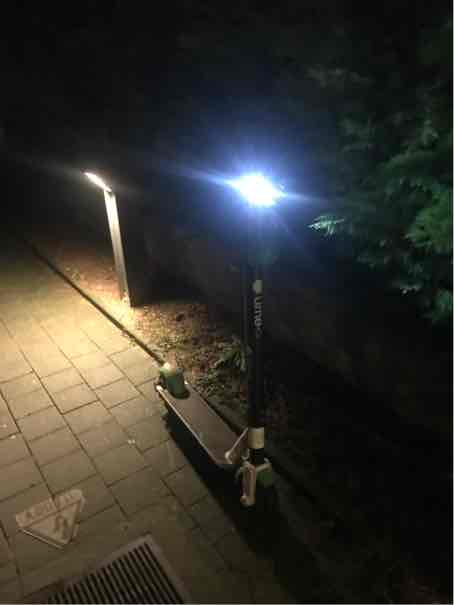scooter: (130, 133, 308, 541)
